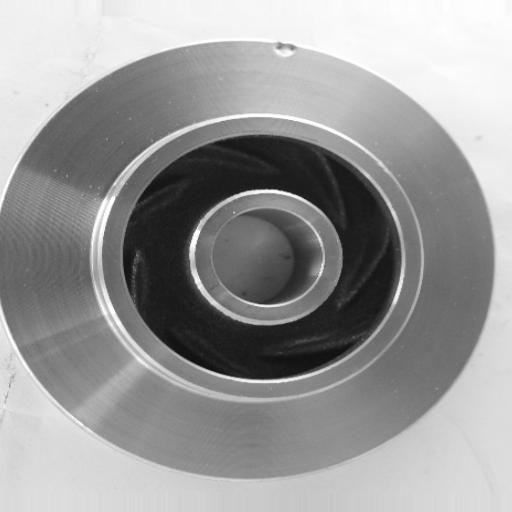crack: (265, 27, 311, 66)
unpolished_casting: (0, 39, 495, 481)
